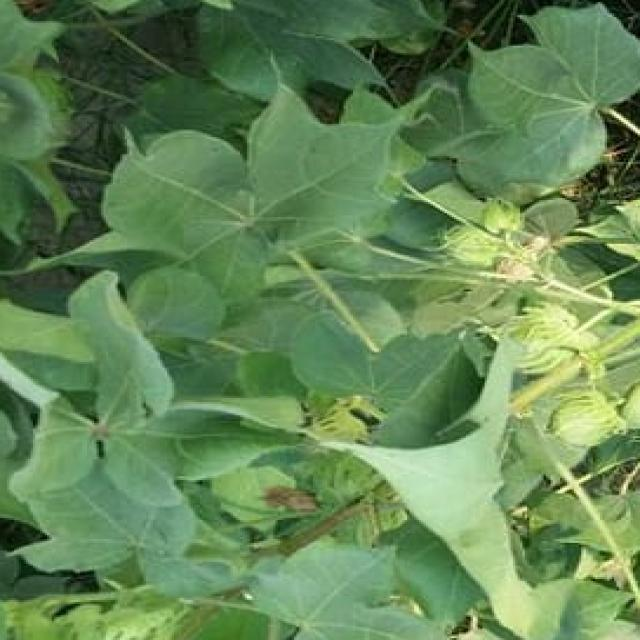Healthy Leaf: (2, 15, 640, 640)
